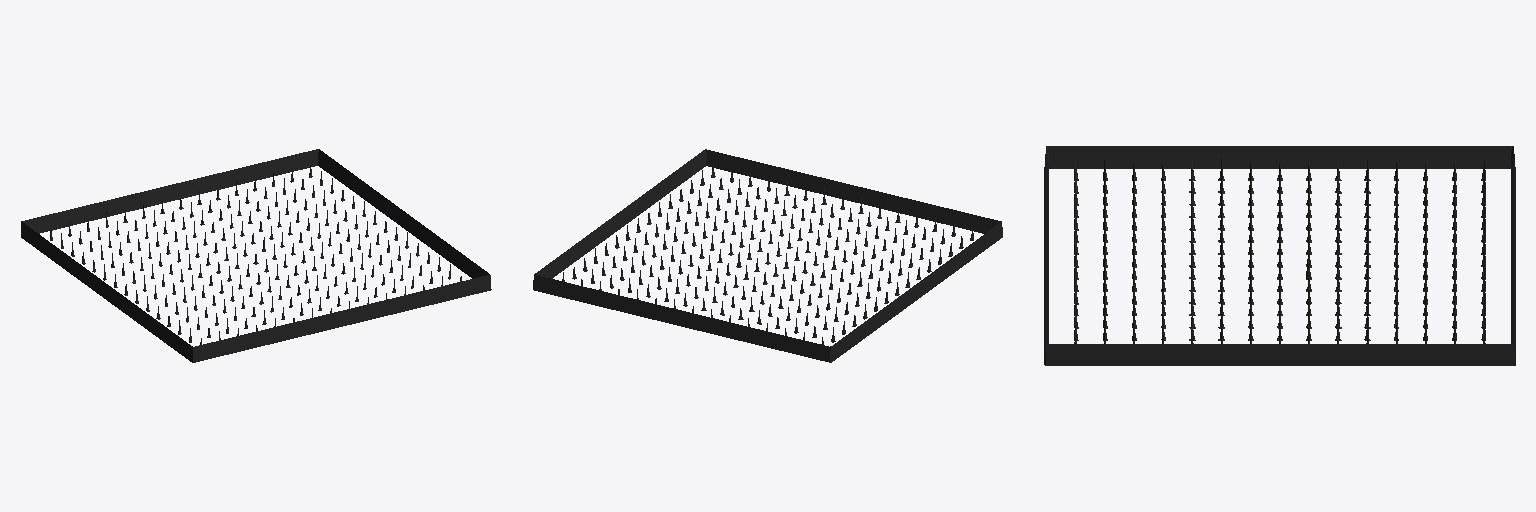
robot.urdf — blank:
<?xml version="1.0"?> 
<robot name="blank">

    <material name="black">
        <color rgba="0.2 0.2 0.2 0.95"/>
    </material>

    <link name="base_link">
        <visual>
            <origin xyz="0.0 0.0 0.0" rpy="0.0 0.0 0.0"/>
            <geometry>
                <mesh filename="meshes/blank.obj" scale="0.02 0.02 0.01" />
            </geometry>
          <material name="black"/>
        </visual>

        <collision concave="yes" name="collision_0">
           <origin xyz="0.0 0.0 0.0" rpy="0.0 0.0 0.0"/>
            <geometry>
                <mesh filename="meshes/blank.obj" scale="0.02 0.02 0.01" />
            </geometry>
        </collision>

        <inertial> 
            <mass value="0"/>
            <inertia ixx="0" ixy="0" ixz="0" iyy="0" iyz="0" izz="0"/>
        </inertial> 

    </link>
</robot>

--- Facts derived from the render (not from the file) ---
The picture shows the robot from 3 angles, left to right: view 1: azimuth 30°, elevation 25°; view 2: azimuth 150°, elevation 25°; view 3: azimuth 270°, elevation 25°; orthographic projection.
Model blank with 1 links and 0 joints (none), rooted at base_link, posed every joint at zero.
Links seen in each view (by area): view 1: base_link; view 2: base_link; view 3: base_link.
Boxes of the visible links, <box> form: base_link: <box>21,149,491,362</box>; base_link: <box>533,149,1002,362</box>; base_link: <box>1044,146,1515,365</box>.
Bounding box of the posed robot: 2.01 × 2.01 × 0.1 m (x, y, z).
1 mesh visuals loaded from 1 distinct referenced files (1 OBJ).